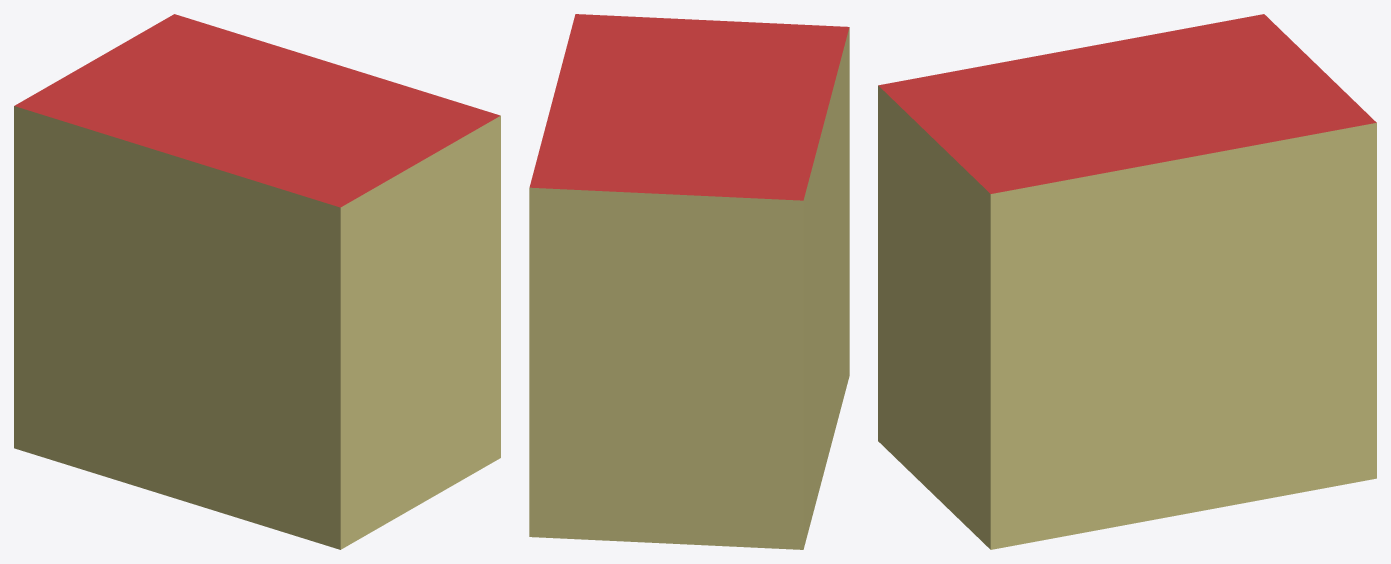
3 views of the same model, side by side, from view 1: azimuth 30°, elevation 25°; view 2: azimuth 150°, elevation 25°; view 3: azimuth 270°, elevation 25° (orthographic). The views are drawn at different scales.
Bounding box in the file's own units: 6.07 × 7.1 × 5.59.
